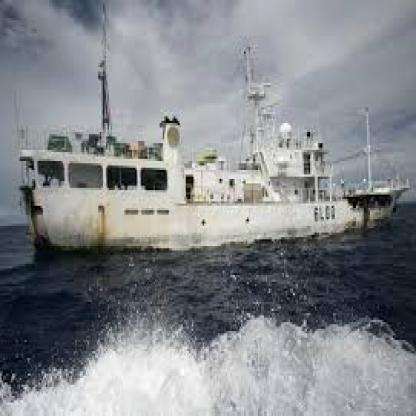fish-b: (6, 25, 412, 260)
